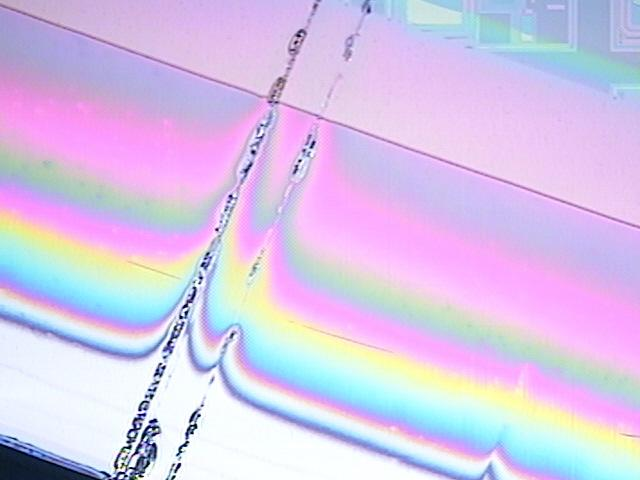SCRATCH: (92, 1, 413, 480)
